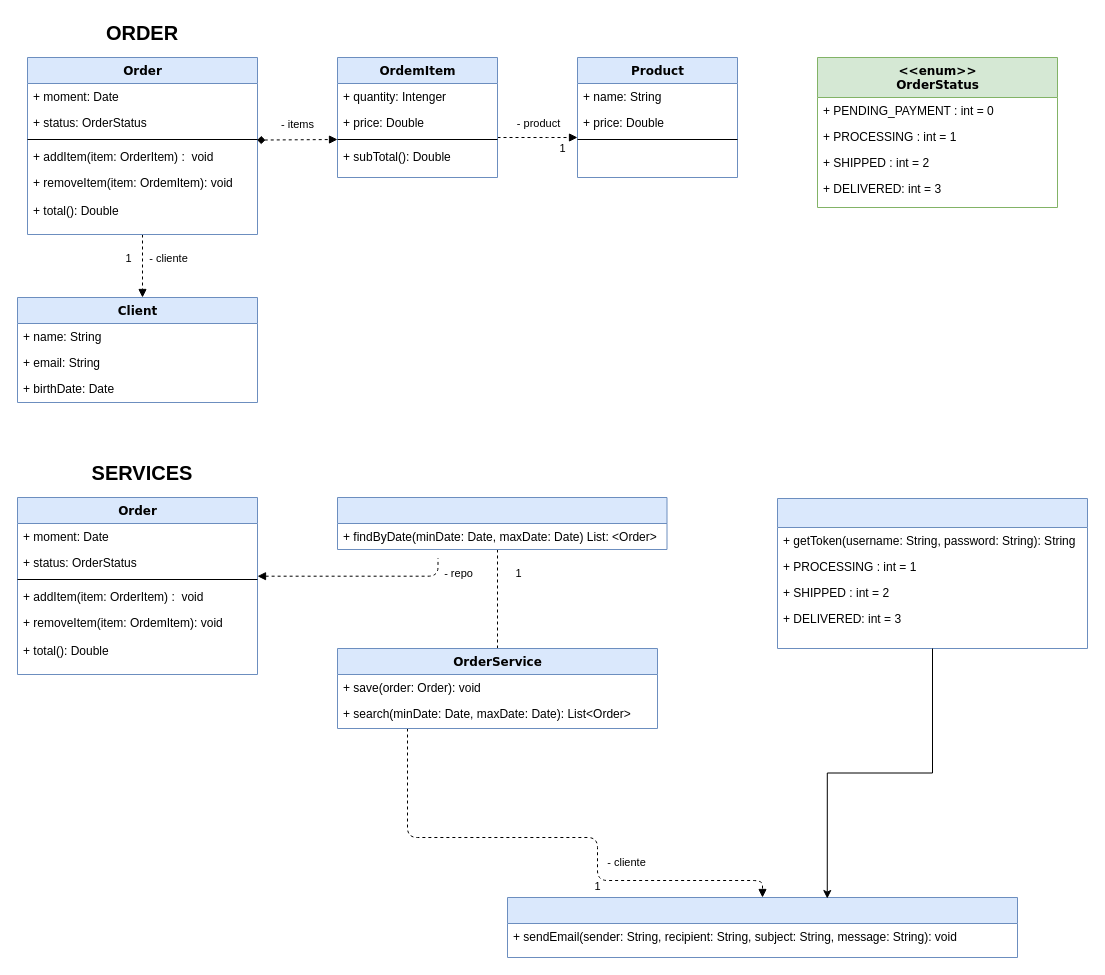
The diagram is 1105 pixels wide and 975 high, and some of its shapes have lost their labels. Each missing label, with the box of its shape:
AuthService: (776, 498, 1088, 648)
EmailService: (506, 896, 1018, 958)
OrderRepository: (336, 496, 667, 550)
